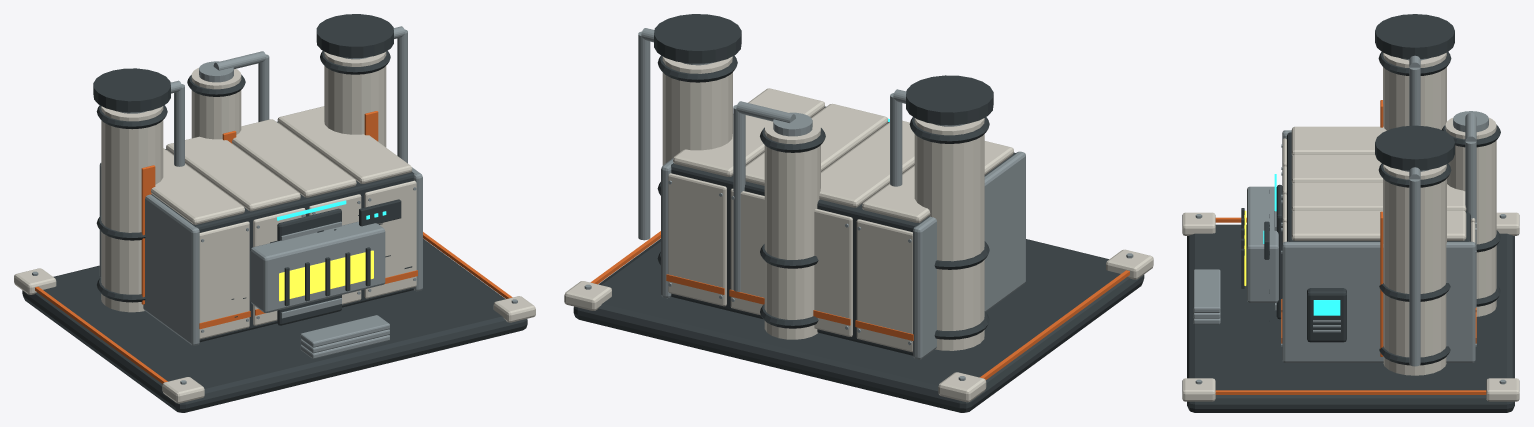
The model's file is SM_RareMetalRefinery_Body.001.fbx.
The picture shows the model from 3 angles, left to right: view 1: azimuth 30°, elevation 25°; view 2: azimuth 150°, elevation 25°; view 3: azimuth 270°, elevation 25°; orthographic projection. The views are drawn at different scales.
Parts seen in each view (by area): view 1: SM_RareMetalRefinery_Body.001; view 2: SM_RareMetalRefinery_Body.001; view 3: SM_RareMetalRefinery_Body.001.
Boxes of the visible parts, x1=… form: SM_RareMetalRefinery_Body.001: x1=14, y1=14, x2=535, y2=412; SM_RareMetalRefinery_Body.001: x1=564, y1=14, x2=1153, y2=412; SM_RareMetalRefinery_Body.001: x1=1182, y1=14, x2=1519, y2=412.
Bounding box in the file's own units: 532 × 422 × 333.
